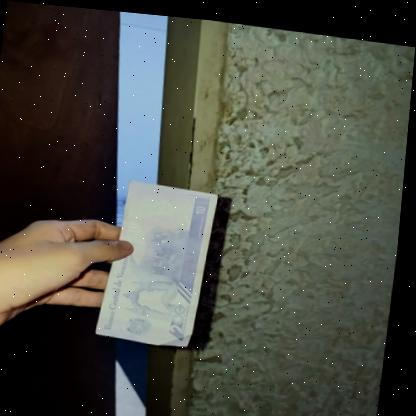ten-back-vef: (99, 176, 228, 346)
